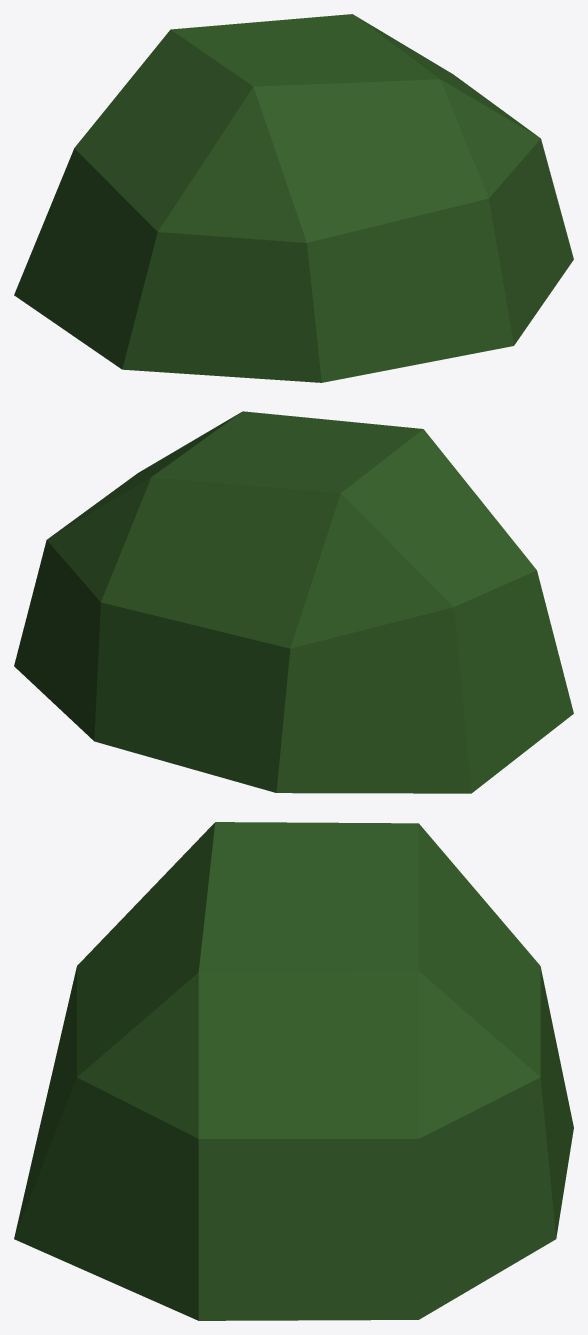
The model's file is Rock2.FBX.
3 renders of one model, top to bottom at view 1: azimuth 30°, elevation 25°; view 2: azimuth 150°, elevation 25°; view 3: azimuth 270°, elevation 25°, orthographic. The views are drawn at different scales.
Visible parts, largest first — view 1: Rock2; view 2: Rock2; view 3: Rock2.
Boxes of the visible parts, left/top/right/bottom form: Rock2: left=14, top=14, right=573, bottom=382; Rock2: left=14, top=411, right=573, bottom=793; Rock2: left=14, top=822, right=573, bottom=1320.
Size of what is drawn, in the model's own units: 111 by 94.38 by 57.05.
